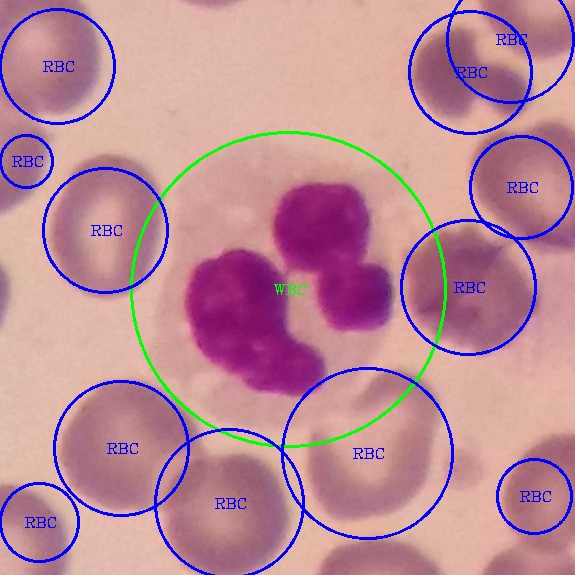RBC: (305, 362, 443, 529), (55, 375, 207, 513), (403, 222, 543, 360), (49, 150, 166, 306), (161, 448, 294, 572), (406, 15, 538, 131), (464, 115, 573, 255), (1, 0, 110, 118), (499, 428, 574, 562)
WBC: (141, 137, 418, 413)
